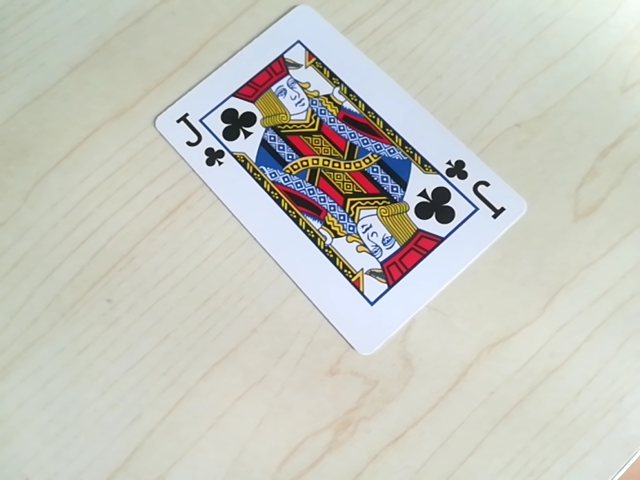mh j: (445, 155, 519, 218), (159, 120, 225, 171)
